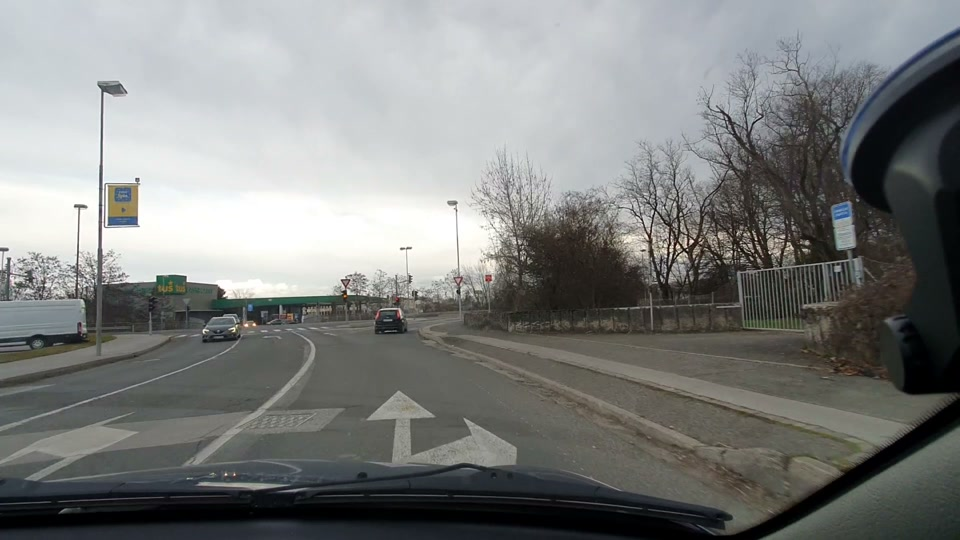vehicle_ign: (0, 292, 96, 343), (371, 304, 408, 337)
vehicle_s: (199, 313, 242, 346)
